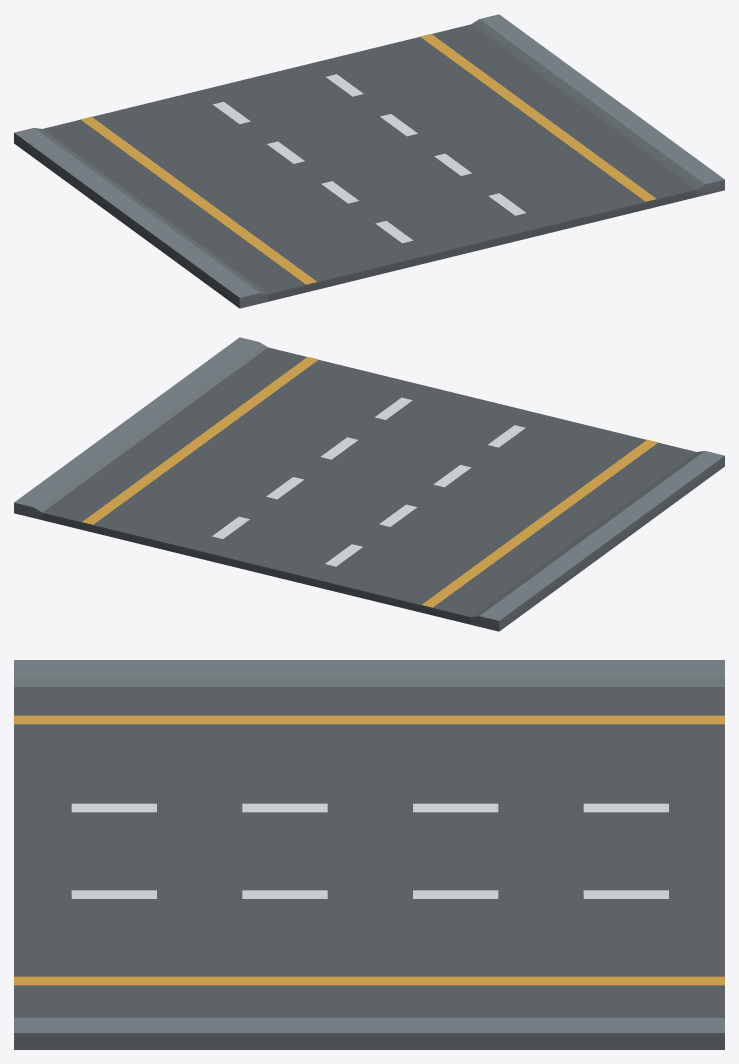
Rendered from ShorterRoad.glb.
3 views of the same model, one above another, from view 1: azimuth 30°, elevation 25°; view 2: azimuth 150°, elevation 25°; view 3: azimuth 270°, elevation 25° (orthographic). The views are drawn at different scales.
Visible parts, largest first — view 1: road_straight_Cube.952; view 2: road_straight_Cube.952; view 3: road_straight_Cube.952.
Boxes of the visible parts, x1=… form: road_straight_Cube.952: x1=14, y1=14, x2=724, y2=308; road_straight_Cube.952: x1=14, y1=337, x2=724, y2=631; road_straight_Cube.952: x1=14, y1=660, x2=724, y2=1049.
Bounding box in the file's own units: 4.72 × 0.1 × 3.81.
Materials: 1 (1 with a texture image).
